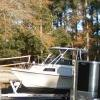Boat: (0, 46, 76, 94)
